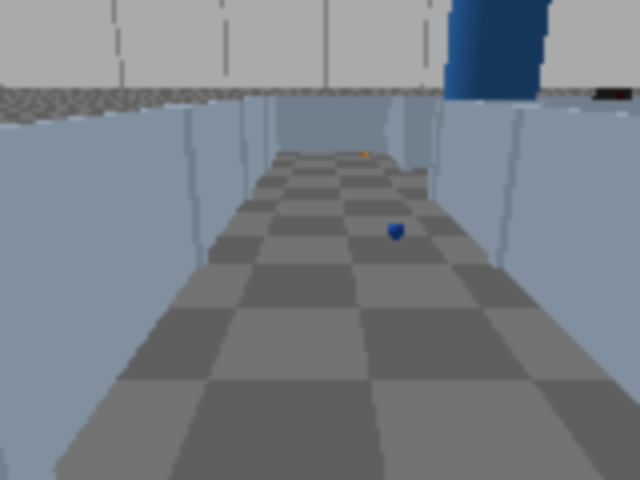puck: (384, 220, 409, 243)
